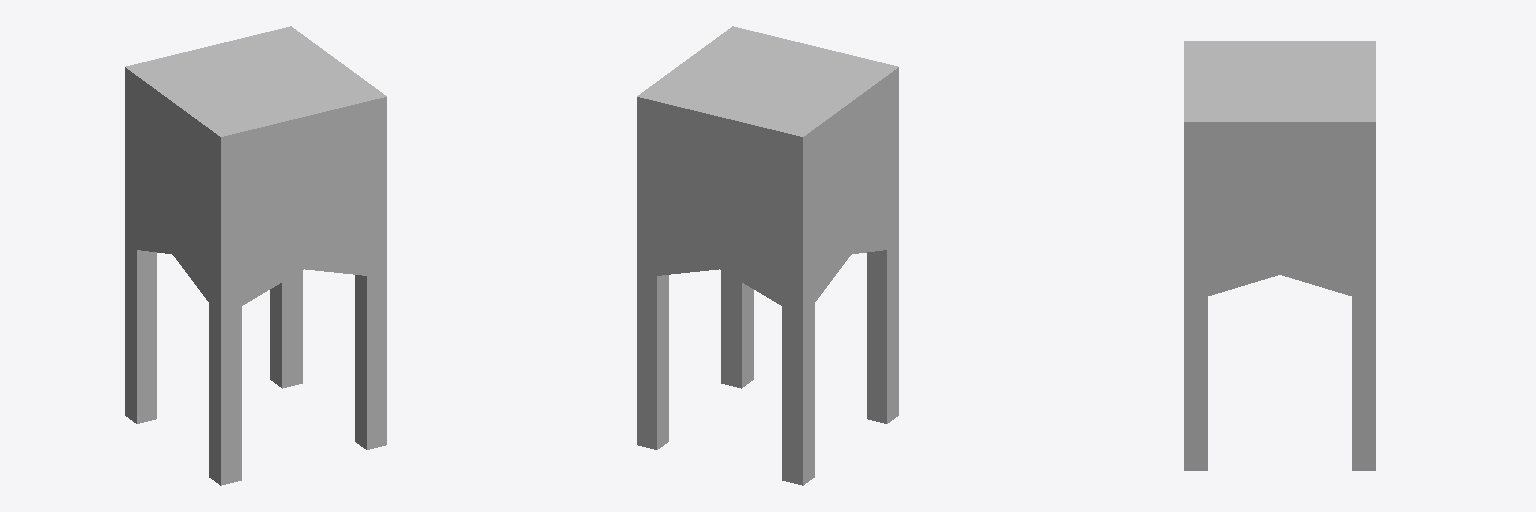
The model's file is Tower-1x2.obj.
The picture shows the model from 3 angles: view 1: azimuth 30°, elevation 25°; view 2: azimuth 150°, elevation 25°; view 3: azimuth 270°, elevation 25°; orthographic projection.
Parts seen in each view (by area): view 1: pCube1; view 2: pCube1; view 3: pCube1.
Boxes of the visible parts, <box> form: pCube1: <box>125,26,386,485</box>; pCube1: <box>637,26,898,485</box>; pCube1: <box>1184,41,1375,470</box>.
Size of the model in its own units: 8 by 16 by 8.